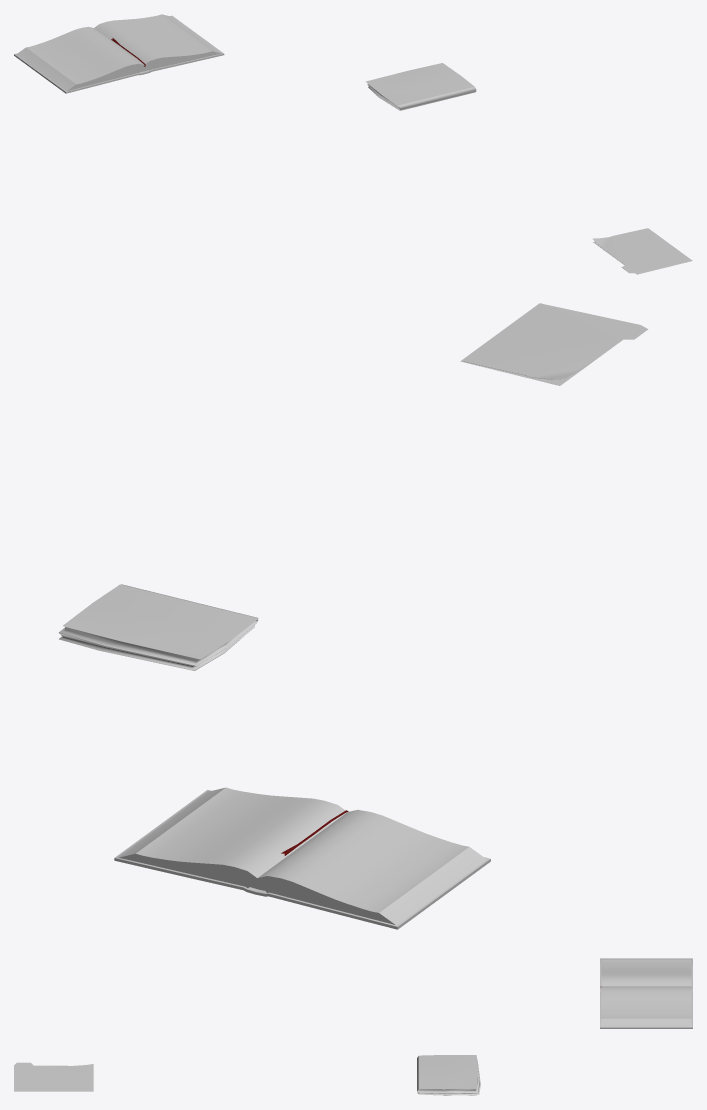
Rendered from Paper_objects_Missing.fbx.
3 renders of one model, top to bottom at view 1: azimuth 30°, elevation 25°; view 2: azimuth 150°, elevation 25°; view 3: azimuth 270°, elevation 25°, orthographic. The views are drawn at different scales.
Parts seen in each view (by area): view 1: Open_Book, File_Stack_Small, Manila_Folder_Folded; view 2: Open_Book, File_Stack_Small, Manila_Folder_Folded; view 3: Open_Book, File_Stack_Small, Manila_Folder_Folded.
Part boxes in pixels (x1,y1,x2,y2): Open_Book: (14,14,224,93); File_Stack_Small: (365,63,476,110); Manila_Folder_Folded: (592,228,692,274); Open_Book: (114,787,490,929); File_Stack_Small: (58,584,258,670); Manila_Folder_Folded: (460,303,648,385); Open_Book: (600,958,692,1028); File_Stack_Small: (417,1055,480,1095); Manila_Folder_Folded: (14,1062,93,1091).
Bounding box in the file's own units: 1.63 × 0.0654 × 3.44.
